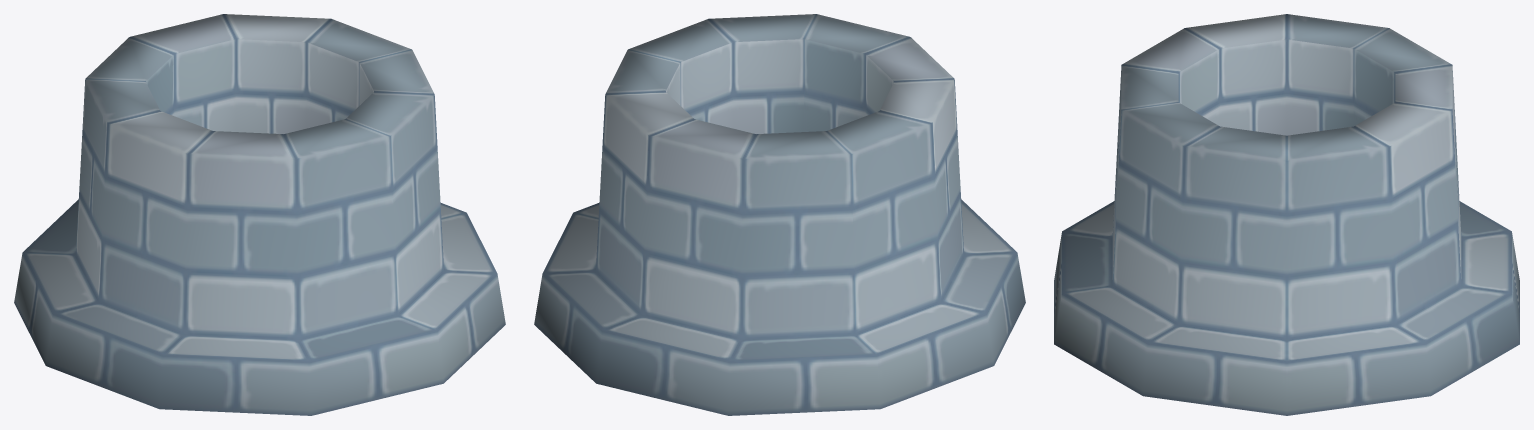
File: HOS0910003.fbx
3 views of the same model, side by side, from view 1: azimuth 30°, elevation 25°; view 2: azimuth 150°, elevation 25°; view 3: azimuth 270°, elevation 25° (orthographic).
Visible parts, largest first — view 1: smHOS0910003; view 2: smHOS0910003; view 3: smHOS0910003.
Part boxes in pixels (bbox=[...]): smHOS0910003: bbox=[14, 14, 505, 415]; smHOS0910003: bbox=[534, 14, 1025, 415]; smHOS0910003: bbox=[1054, 14, 1519, 415].
Size of the model in its own units: 197 by 99.87 by 187.
1 material, 1 textured.
